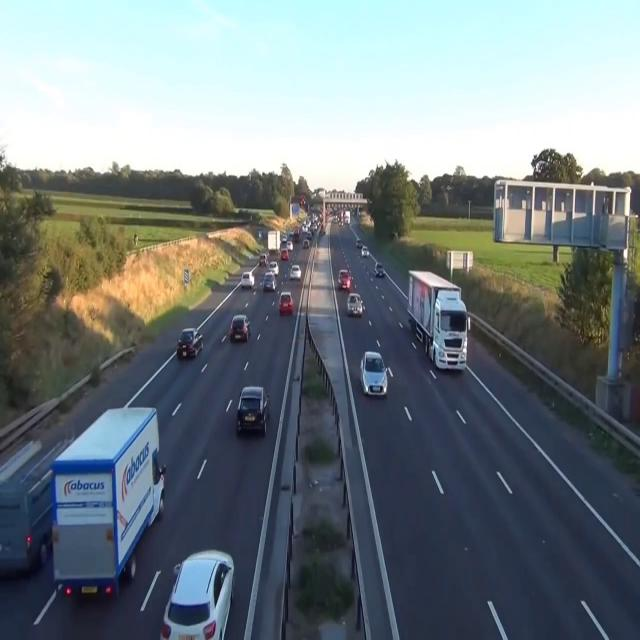belum terisi: (46, 391, 169, 594), (150, 524, 238, 640), (1, 413, 61, 581), (404, 255, 474, 388), (345, 336, 393, 411), (227, 375, 275, 449), (340, 283, 370, 330), (226, 304, 254, 351), (174, 329, 203, 358), (276, 284, 296, 320)
